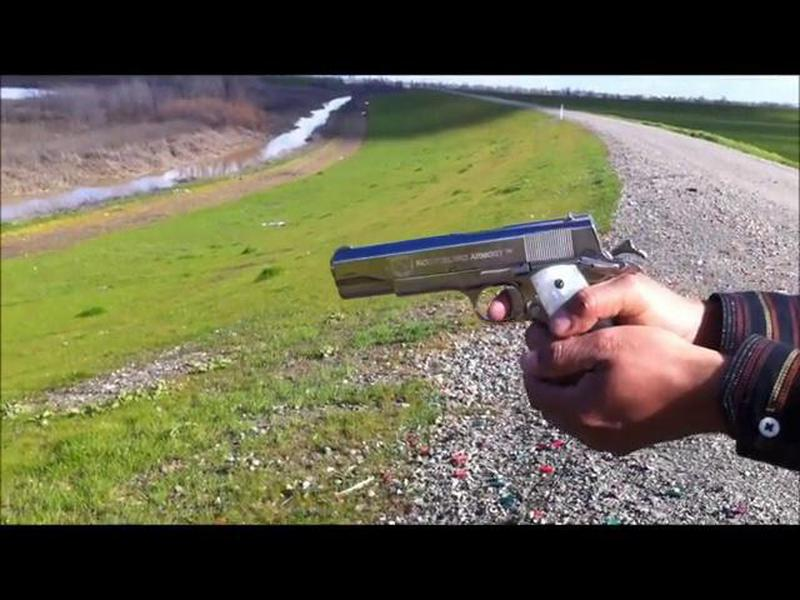Pistola: (314, 205, 657, 347)
